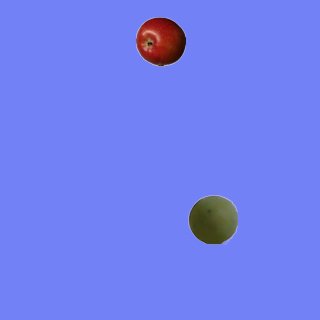Apple Braeburn: (135, 16, 185, 66)
Grape White 4: (187, 194, 237, 244)
